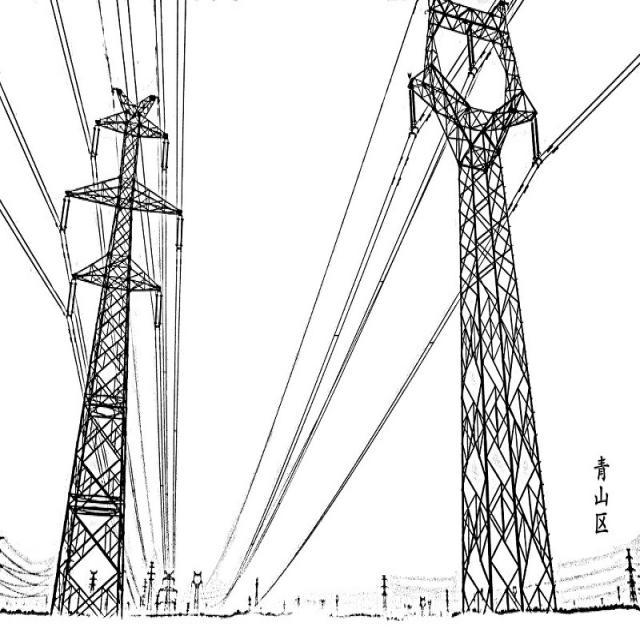non-critical vegetation: (393, 2, 569, 618), (44, 80, 185, 616)
